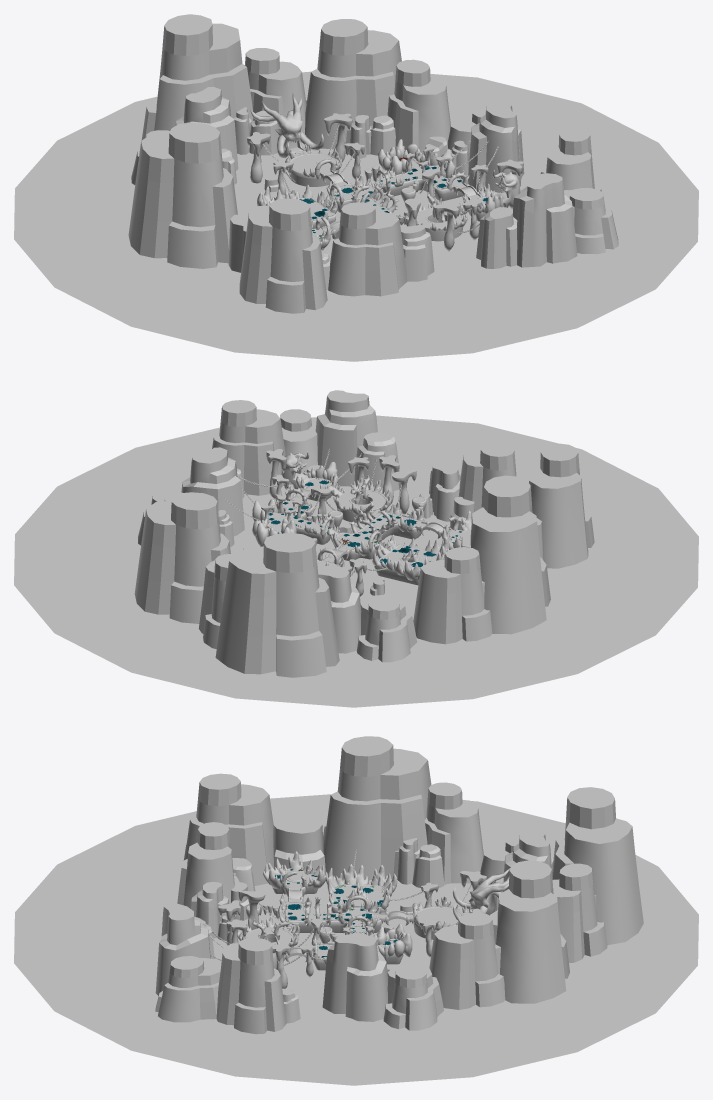
Rendered from Demo_Scene.FBX.
3 renders of one model, top to bottom at view 1: azimuth 30°, elevation 25°; view 2: azimuth 150°, elevation 25°; view 3: azimuth 270°, elevation 25°, orthographic.
Visible parts, largest first — view 1: Cylinder001, rock_cliff_007, rock_cliff_009, rock_cliff_006, rock_cliff_016, rock_cliff_004, rock_cliff_015, rock_cliff_010, rock_cliff_012, rock_cliff_017, rock_cliff_014, rock_cliff_013 (+16 smaller); view 2: Cylinder001, rock_cliff_016, rock_cliff_007, rock_cliff_009, rock_cliff_01, rock_cliff_006, rock_cliff_013, rock_cliff_015, rock_cliff_008, rock_cliff_012, rock_cliff_02, rock_cliff_004 (+9 smaller); view 3: Cylinder001, rock_cliff_007, rock_cliff_009, rock_cliff_016, rock_cliff_010, rock_cliff_006, rock_cliff_013, rock_cliff_012, rock_cliff_01, rock_cliff_017, rock_cliff_014, rock_cliff_011 (+10 smaller).
Part boxes in pixels (box(x1,y1,x2,y2)): Cylinder001: box(14, 71, 698, 361); rock_cliff_007: box(128, 122, 237, 268); rock_cliff_009: box(305, 19, 401, 149); rock_cliff_006: box(239, 198, 327, 313); rock_cliff_016: box(141, 14, 253, 140); rock_cliff_004: box(328, 202, 407, 296); rock_cliff_015: box(513, 173, 577, 267); rock_cliff_010: box(387, 59, 450, 154); rock_cliff_012: box(468, 101, 524, 192); rock_cliff_017: box(245, 48, 306, 142); rock_cliff_014: box(564, 188, 618, 254); rock_cliff_013: box(540, 127, 601, 191); Cylinder001: box(14, 415, 698, 707); rock_cliff_016: box(215, 532, 339, 677); rock_cliff_007: box(461, 475, 550, 634); rock_cliff_009: box(134, 492, 230, 623); rock_cliff_01: box(413, 547, 492, 644); rock_cliff_006: box(529, 443, 594, 568); rock_cliff_013: box(212, 400, 285, 495); rock_cliff_015: box(315, 390, 377, 486); rock_cliff_008: box(356, 594, 417, 662); rock_cliff_012: box(181, 447, 244, 536); rock_cliff_02: box(317, 566, 361, 653); rock_cliff_004: box(458, 443, 521, 511); Cylinder001: box(14, 794, 698, 1085); rock_cliff_007: box(323, 736, 431, 880); rock_cliff_009: box(490, 860, 569, 1003); rock_cliff_016: box(552, 787, 643, 945); rock_cliff_010: box(429, 912, 505, 1009); rock_cliff_006: box(183, 773, 273, 885); rock_cliff_013: box(216, 937, 286, 1034); rock_cliff_012: box(322, 934, 387, 1021); rock_cliff_01: box(424, 782, 483, 884); rock_cliff_017: box(552, 863, 607, 962); rock_cliff_014: box(155, 956, 221, 1022); rock_cliff_011: box(383, 963, 443, 1030).
Size of the model in its own units: 20080 by 4025 by 19802.
